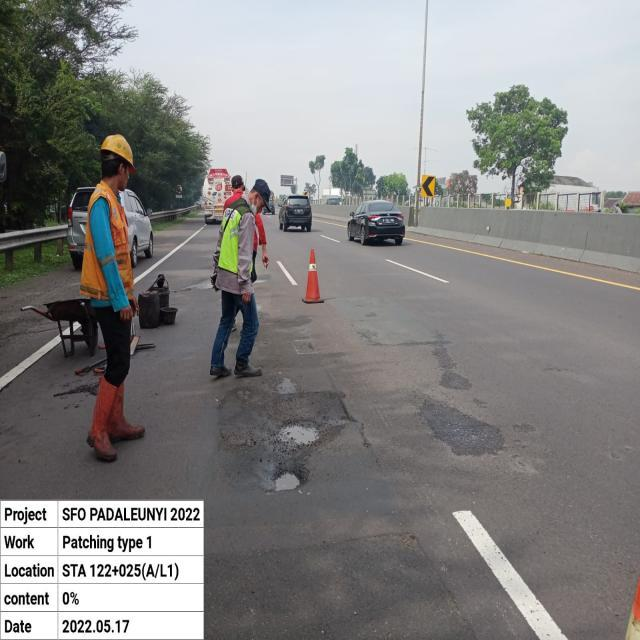Buraco: (266, 417, 324, 453), (262, 462, 312, 496)
